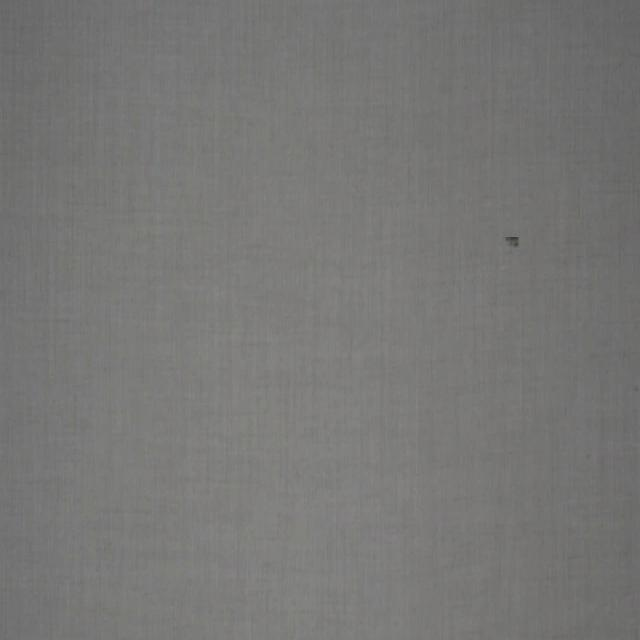dirty: (505, 238, 518, 248)
